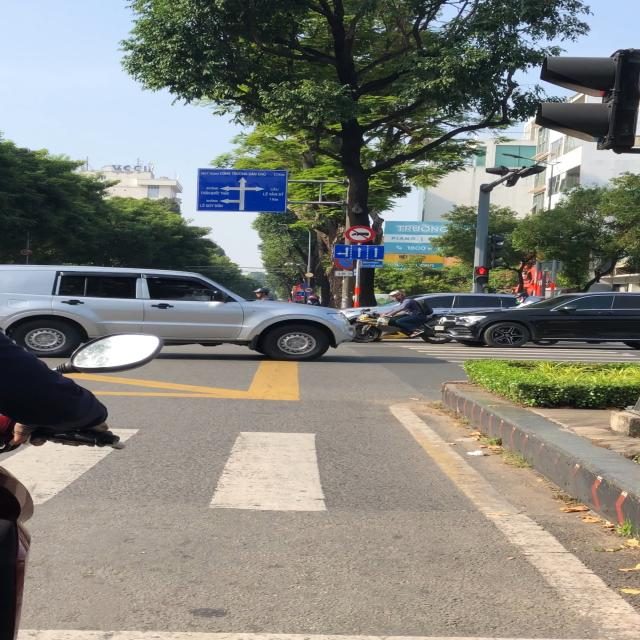Bien bao cam xe so-mi ro-mooc: (344, 224, 378, 245)
